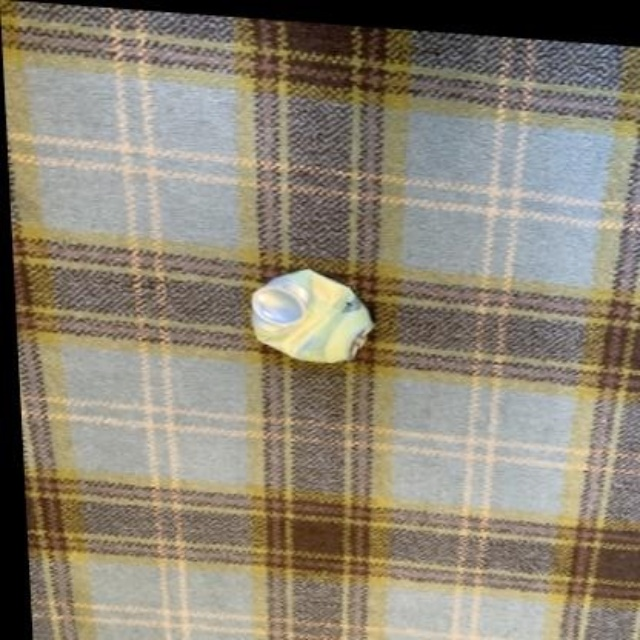trash: (252, 269, 372, 362)
